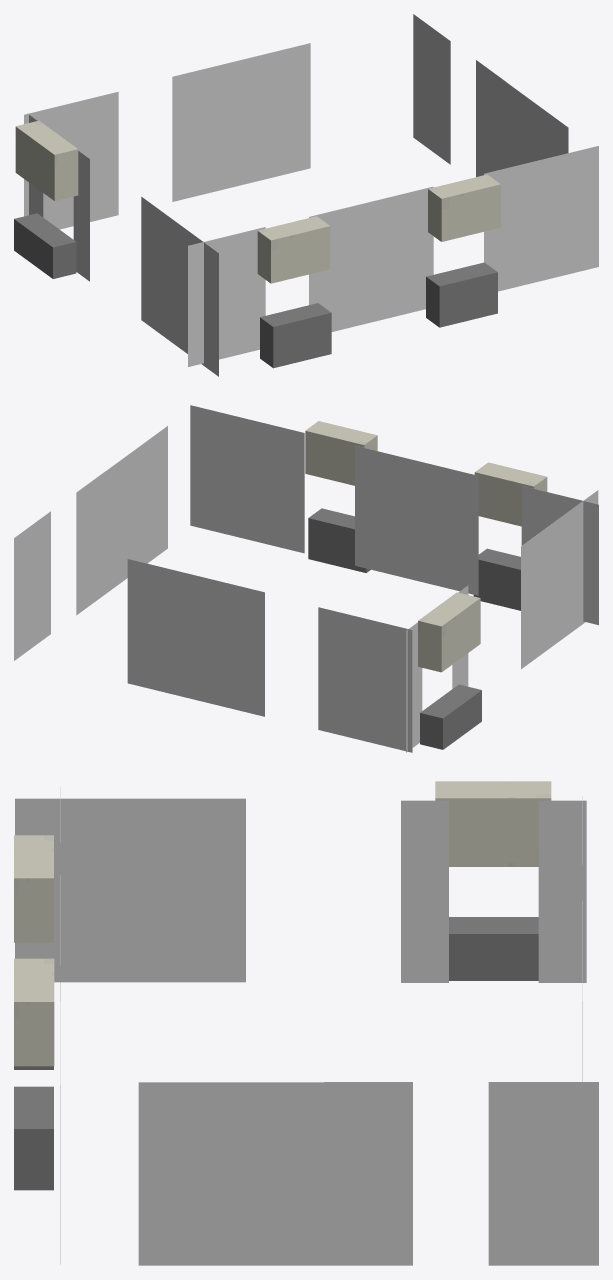
File: LivingRoomWalls.fbx
3 views of the same model, one above another, from view 1: azimuth 30°, elevation 25°; view 2: azimuth 150°, elevation 25°; view 3: azimuth 270°, elevation 25° (orthographic). The views are drawn at different scales.
Visible parts, largest first — view 1: WoodWall__7_, WoodWall__1_, WoodWall, WoodWall__3_, WoodWall__2_, WoodWall__6_, WoodWall__8_, Cube__44_, Cube__40_, Cube__42_, Cube__39_, Cube__38_ (+5 smaller); view 2: WoodWall__7_, WoodWall__1_, WoodWall, WoodWall__6_, WoodWall__3_, WoodWall__8_, WoodWall__20_, WoodWall__2_, Cube__42_, WoodWall__21_, WoodWall__9_, Cube__40_ (+6 smaller); view 3: WoodWall__3_, WoodWall__8_, WoodWall__20_, WoodWall__9_, WoodWall__21_, WoodWall__5_, WoodWall__4_, Cube__42_, Cube__41_, Cube__40_, Cube__44_, Cube__39_.
Boxes of the visible parts, x1,y1,x2,y2 form: WoodWall__7_: [172, 43, 310, 201]; WoodWall__1_: [309, 186, 433, 331]; WoodWall: [484, 146, 598, 291]; WoodWall__3_: [141, 196, 218, 376]; WoodWall__2_: [188, 227, 265, 366]; WoodWall__6_: [24, 91, 118, 229]; WoodWall__8_: [413, 14, 450, 164]; Cube__44_: [257, 216, 330, 283]; Cube__40_: [428, 174, 500, 241]; Cube__42_: [15, 120, 78, 201]; Cube__39_: [426, 262, 497, 327]; Cube__38_: [260, 303, 331, 368]; WoodWall__7_: [127, 559, 264, 716]; WoodWall__1_: [355, 445, 478, 595]; WoodWall: [190, 405, 304, 553]; WoodWall__6_: [318, 607, 412, 752]; WoodWall__3_: [521, 490, 598, 669]; WoodWall__8_: [14, 511, 50, 660]; WoodWall__20_: [136, 426, 167, 563]; WoodWall__2_: [521, 486, 598, 625]; Cube__42_: [418, 592, 480, 672]; WoodWall__21_: [76, 471, 105, 615]; WoodWall__9_: [106, 449, 136, 593]; Cube__40_: [305, 421, 377, 485]; WoodWall__3_: [15, 798, 245, 982]; WoodWall__8_: [488, 1082, 598, 1265]; WoodWall__20_: [138, 1082, 232, 1265]; WoodWall__9_: [232, 1082, 326, 1265]; WoodWall__21_: [324, 1082, 412, 1265]; WoodWall__5_: [538, 800, 586, 982]; WoodWall__4_: [401, 800, 448, 982]; Cube__42_: [435, 781, 551, 866]; Cube__41_: [449, 917, 538, 980]; Cube__40_: [14, 958, 54, 1066]; Cube__44_: [14, 835, 53, 942]; Cube__39_: [14, 1086, 53, 1190].
Bounding box in the file's own units: 2703 × 797 × 2197.
3 materials, 1 textured.
